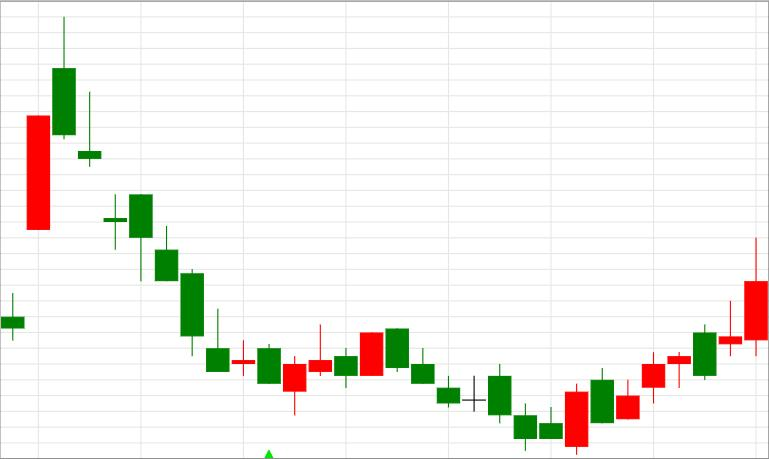bullish_engulfing_rise: (386, 328, 588, 455)
